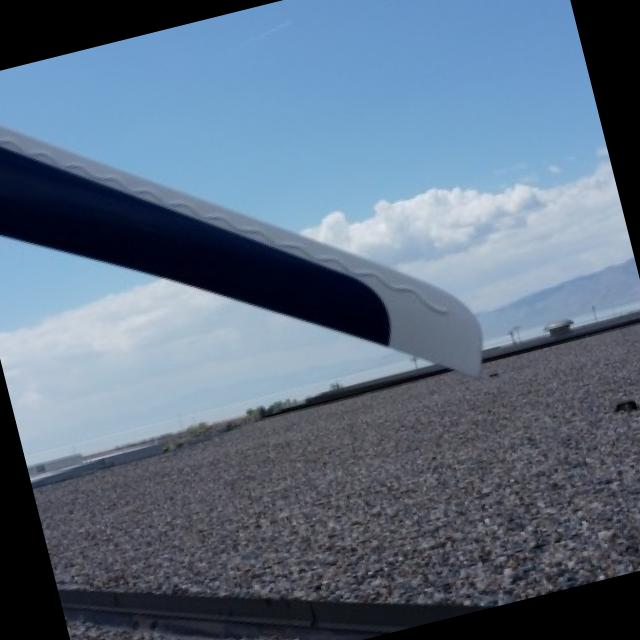healthy: (0, 125, 478, 374)
